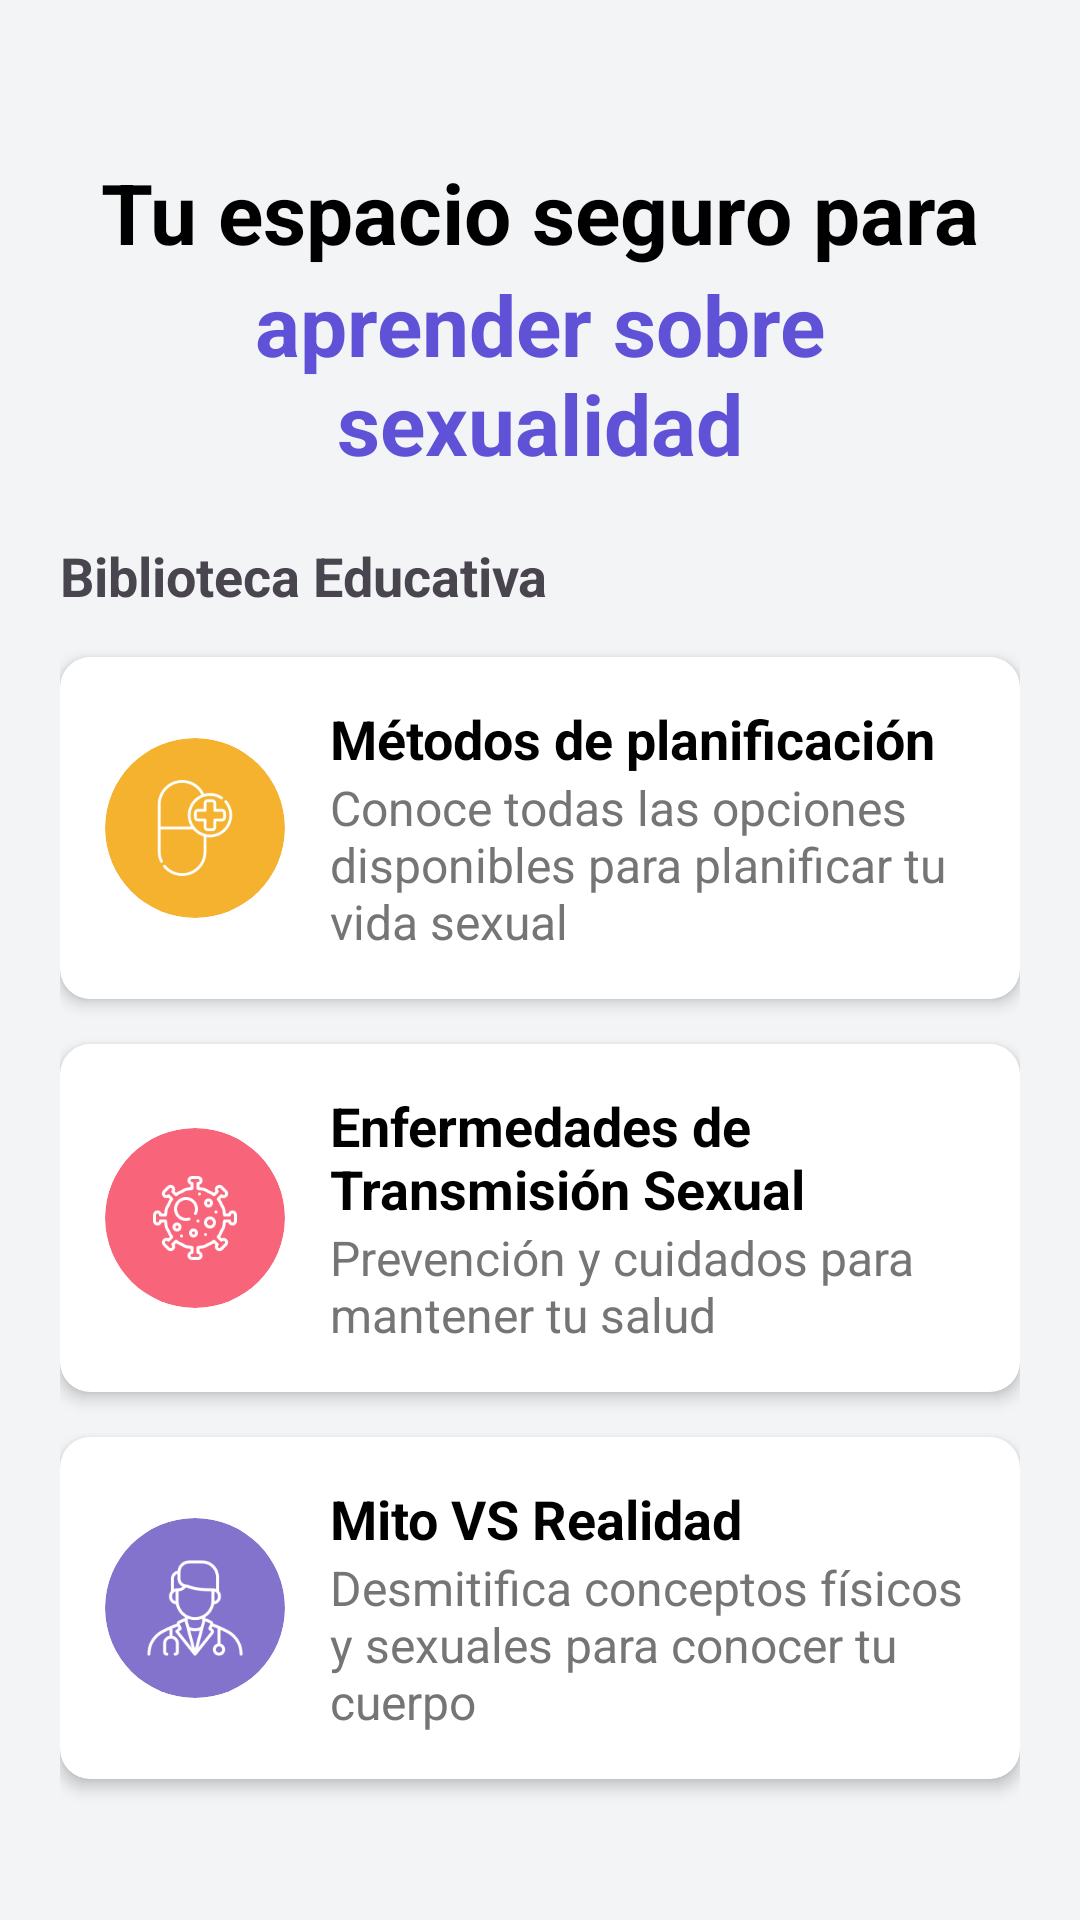

Icon bounding boxes for this 1080×1920 phone screenshot, format box(x1, y1, x2, y2):
doctor: box(147, 1560, 243, 1656)
pills: box(157, 780, 233, 876)
